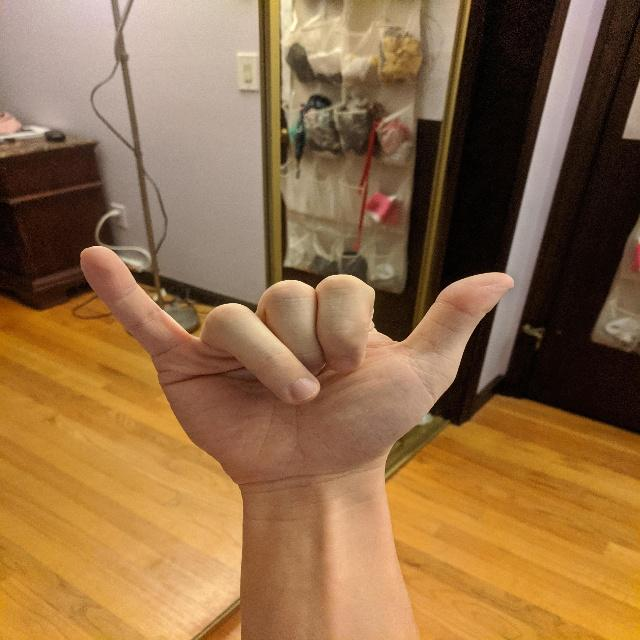Y: (75, 241, 533, 479)
